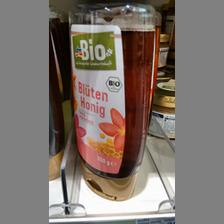Honig: (64, 3, 156, 202)
